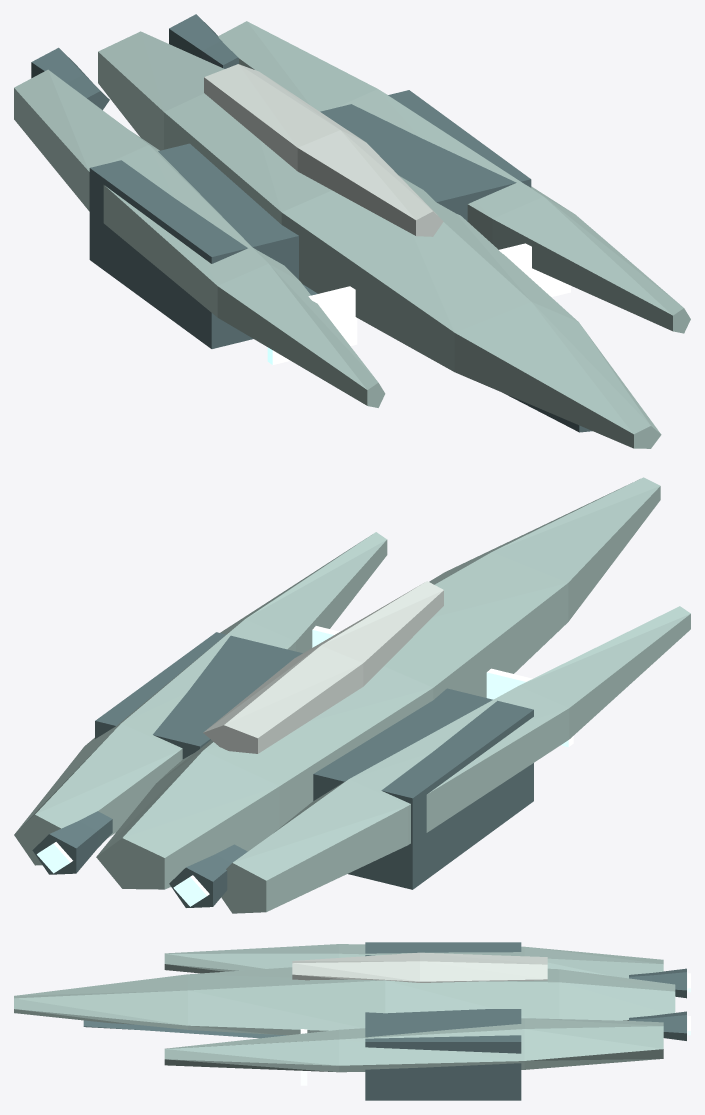
The picture shows the model from 3 angles, top to bottom: view 1: azimuth 30°, elevation 25°; view 2: azimuth 150°, elevation 25°; view 3: azimuth 270°, elevation 25°; orthographic projection. The views are drawn at different scales.
Size of the model in its own units: 8.13 by 3.17 by 20.84.
